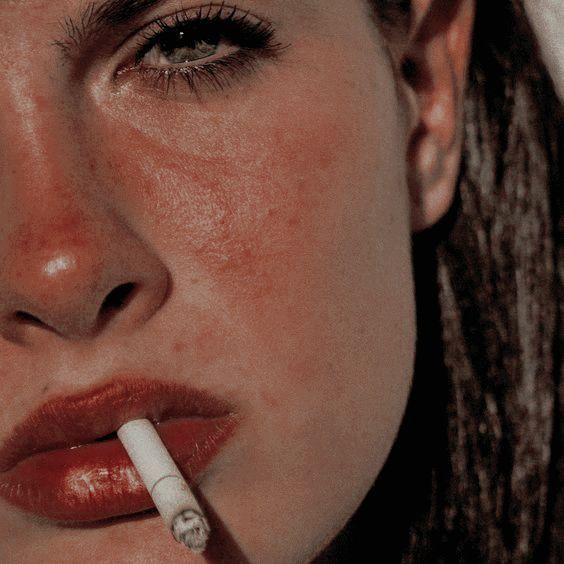cigarette: (117, 417, 211, 556)
